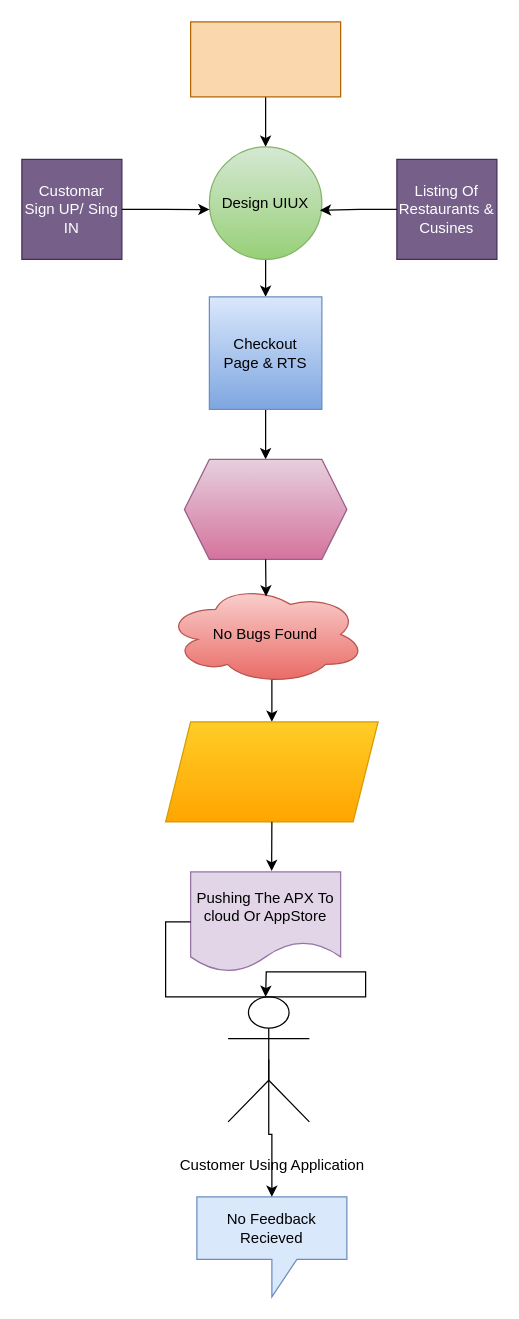
This 519x1319 diagram has some shape labels left out. Here are the shapes that lost their labels. From the top down, the box of each, then its label:
(189, 21, 341, 97): Maahika foods
(183, 458, 347, 559): Compling into apk
(164, 721, 378, 822): Writing Permisions For Deployment
